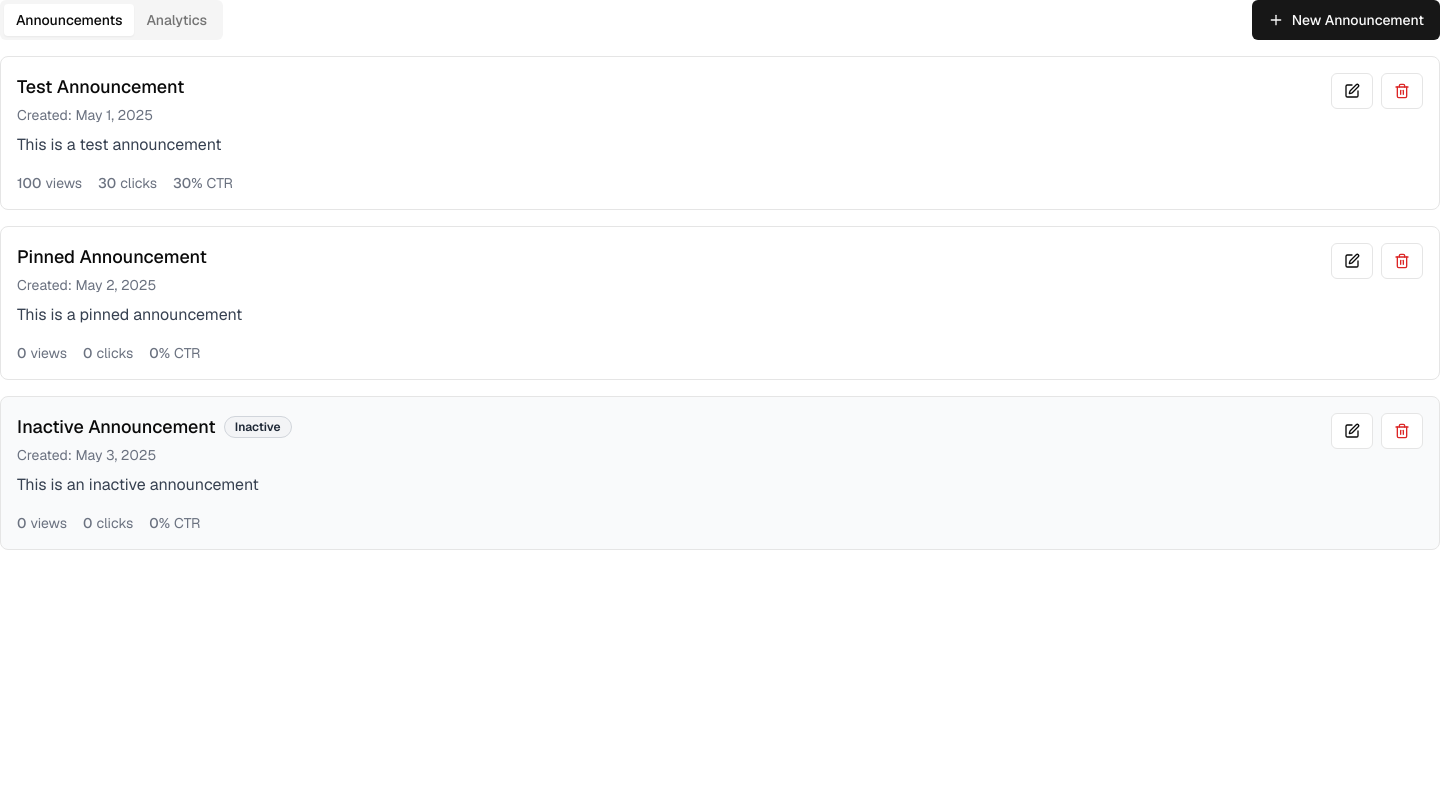
AnnouncementManagement › allows editing an existing announcement
Click the 2nd button.
click(1352, 91)  # box [1331, 73, 1373, 109]
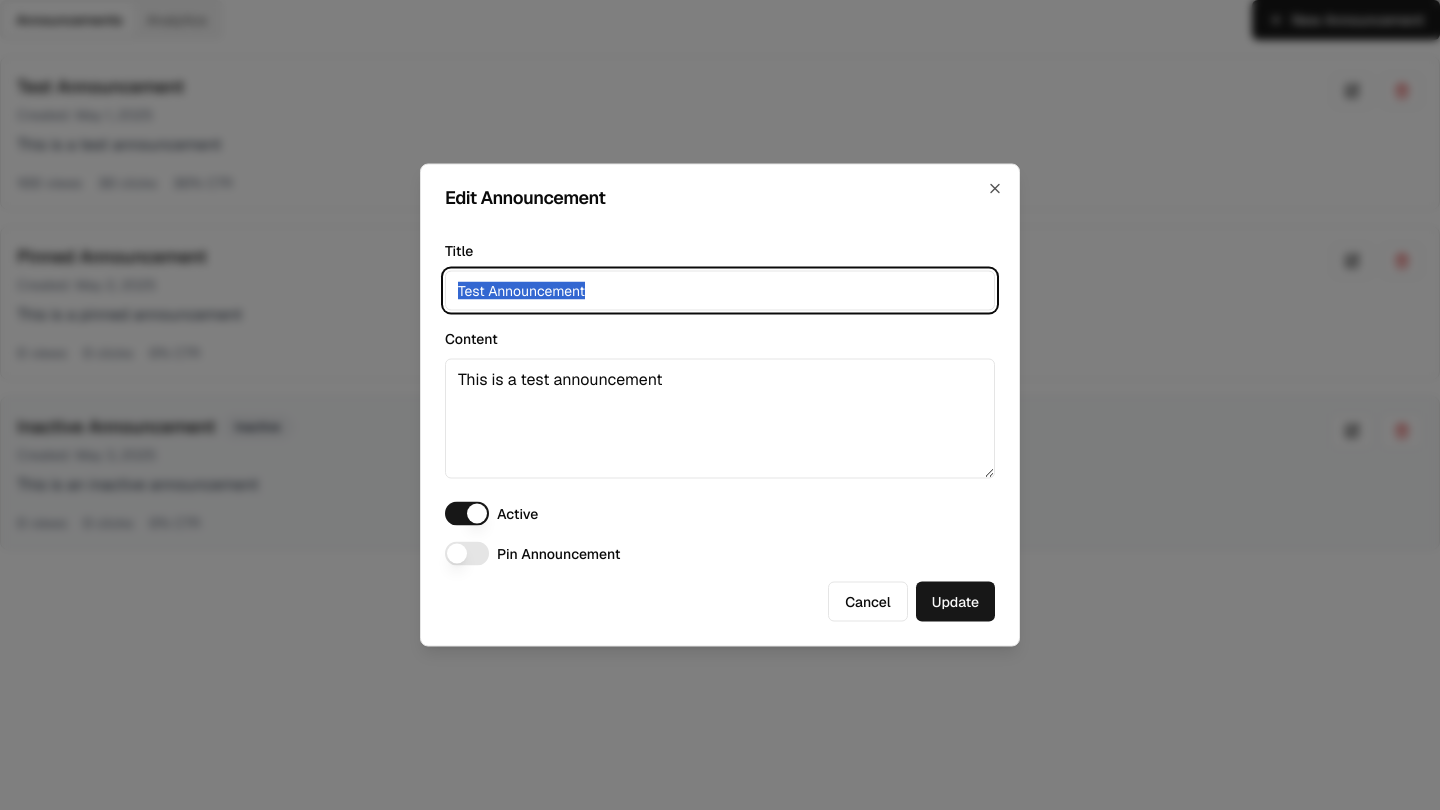
Expected: the heading "Edit Announcement" is shown, [445, 186, 606, 208]
Expected: the field labelled "Title" holds "Test Announcement"
Expected: the text box labelled "Content" holds "This is a test announcement", [445, 358, 995, 478]
Note: Update the form
Replace the text in the field labelled "Title" with "Updated Announcement" at point(720, 290), box [445, 270, 995, 310]
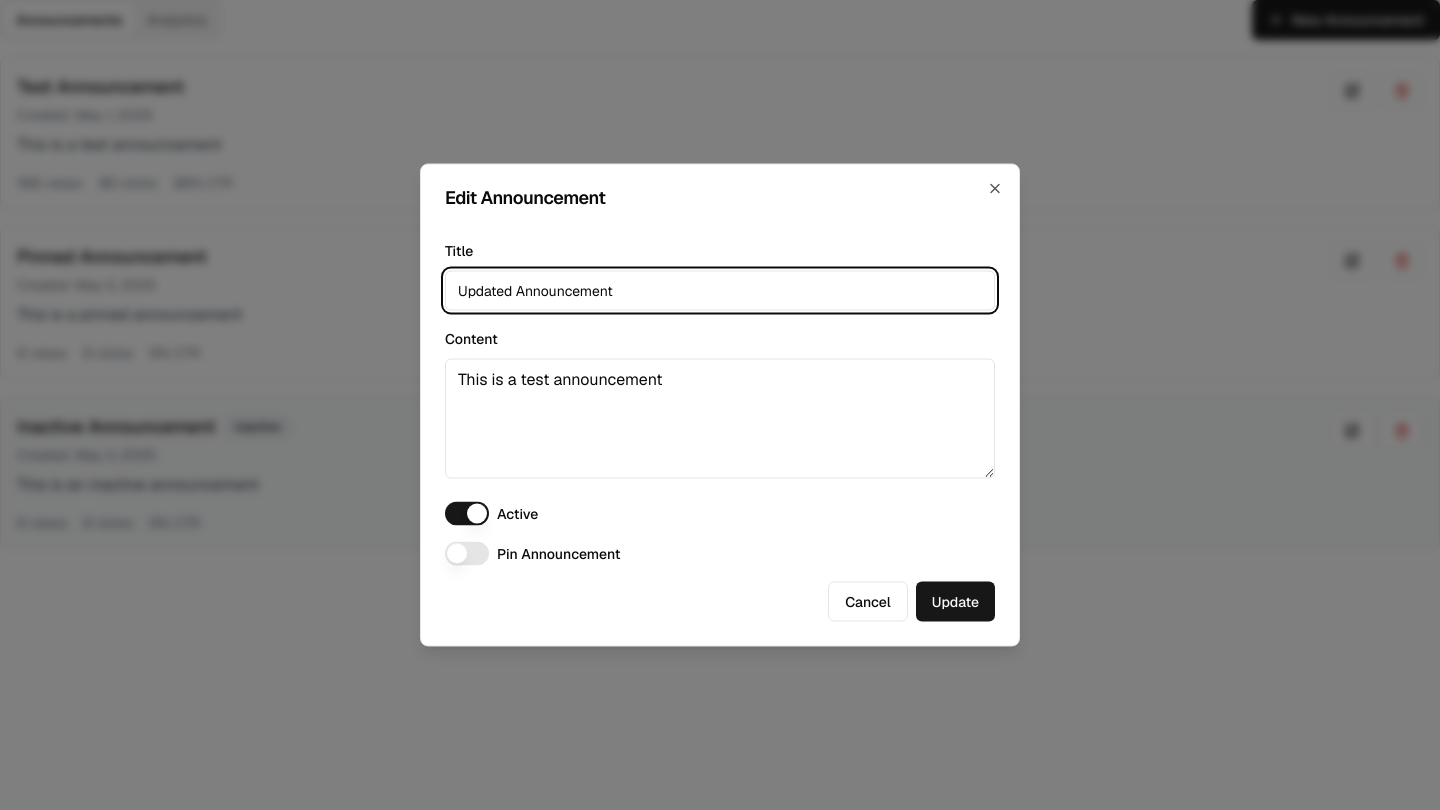
Replace the text in the text box labelled "Content" with "This announcement has been updated" at point(720, 418), box [445, 358, 995, 478]
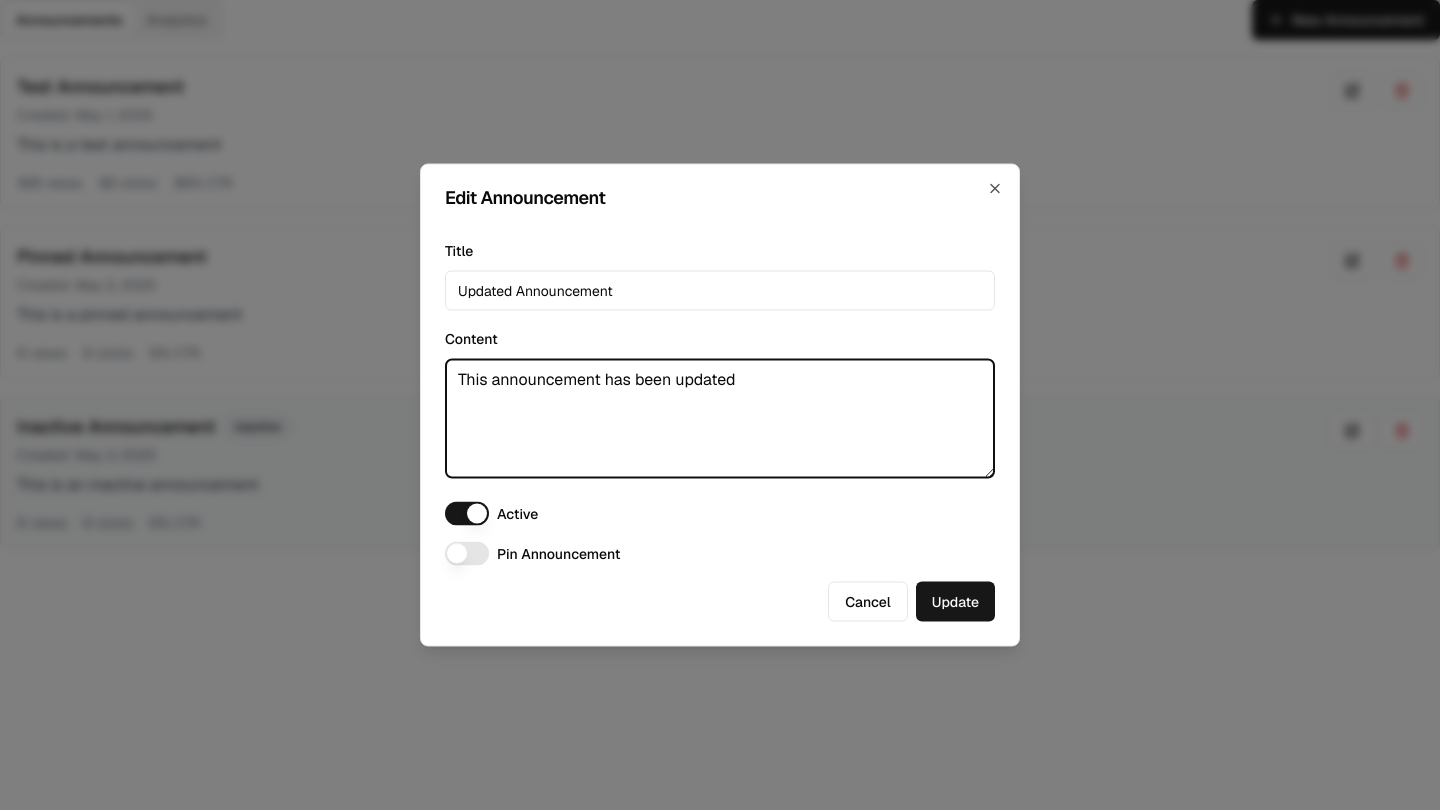
Note: Toggle active status
Click the 1st switch named "Active".
click(467, 514)  # box [445, 502, 489, 526]
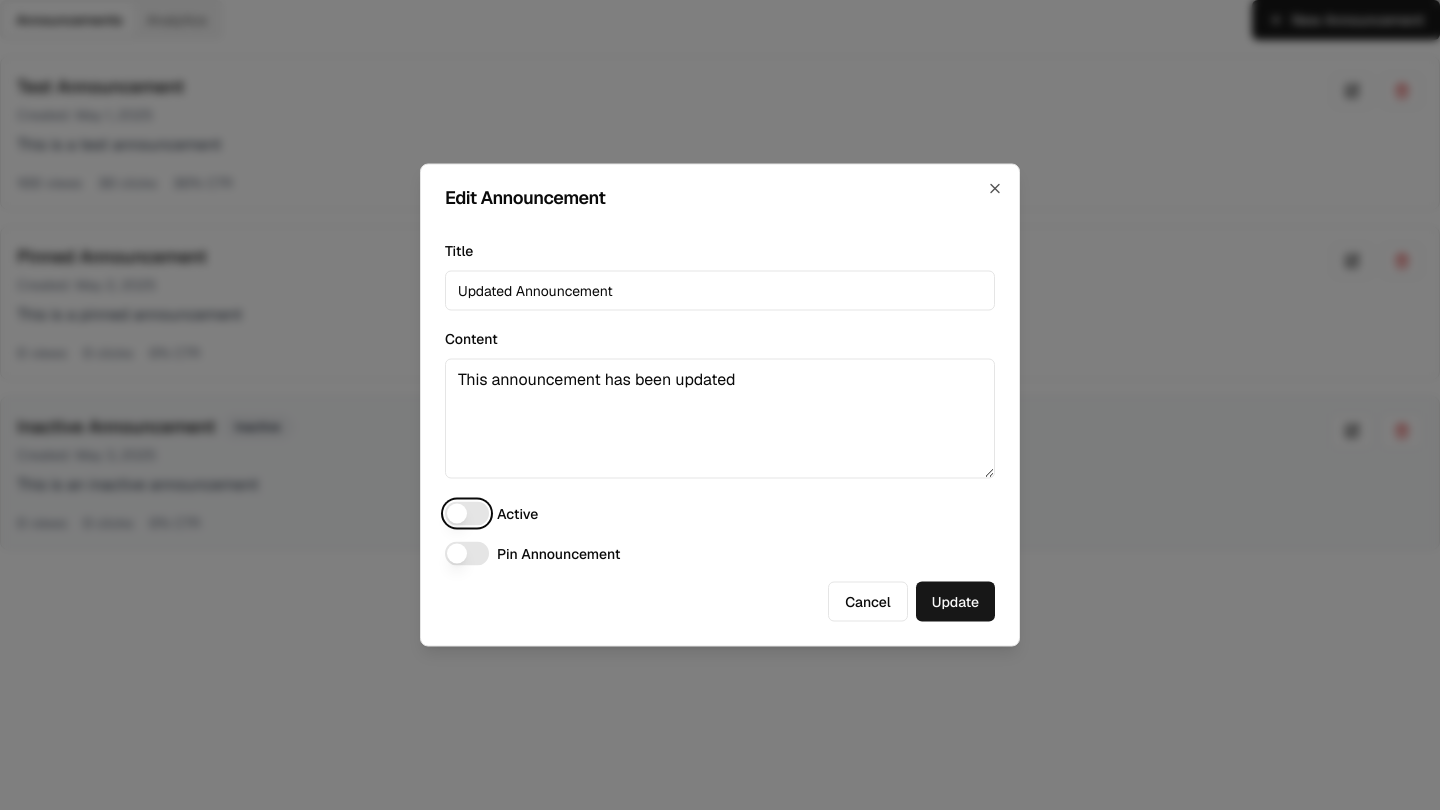
Note: Submit the form
Click the button "Update".
click(955, 602)  # box [916, 582, 995, 622]
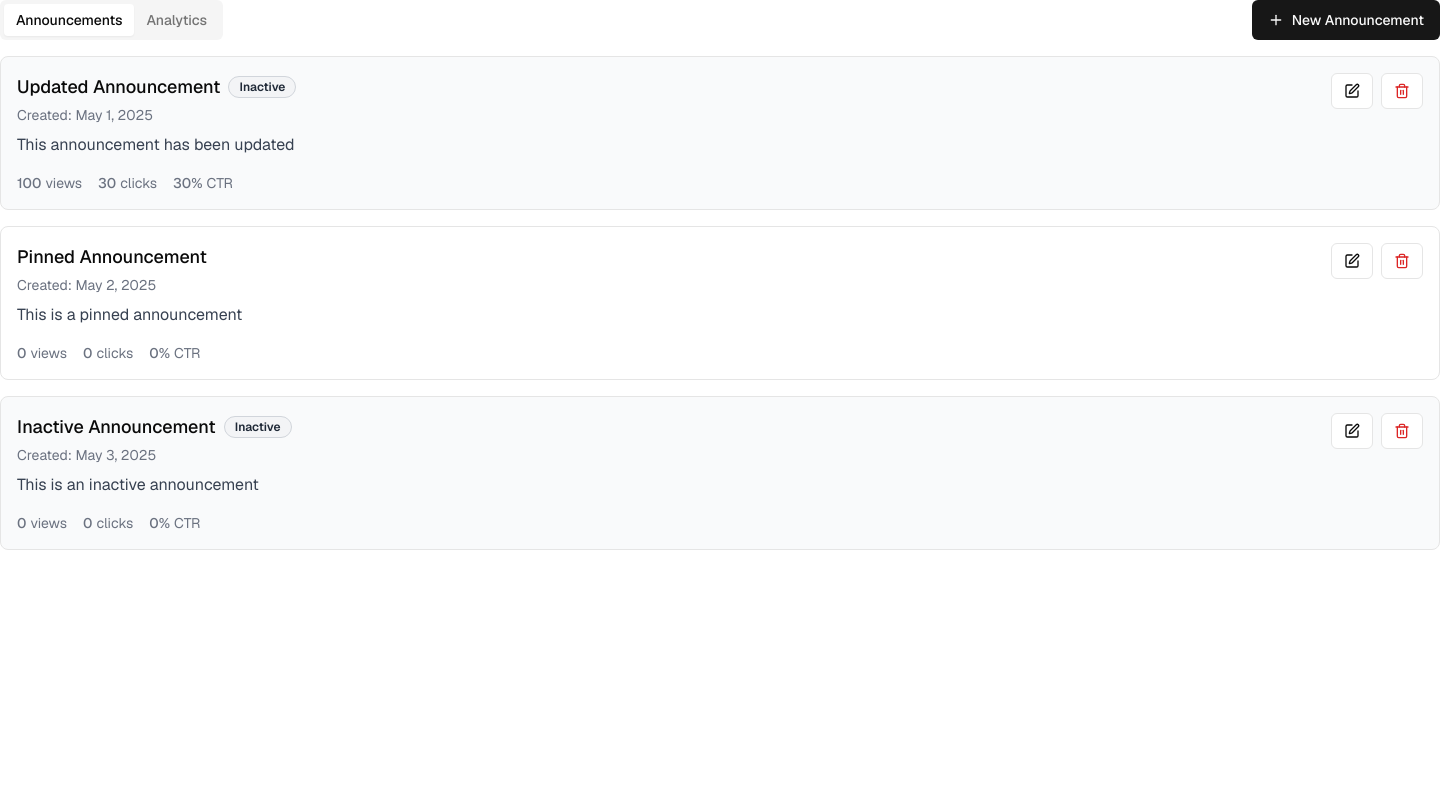
Expected: the heading "Updated Announcement Inactive" is shown, [17, 73, 296, 101]
Expected: the text "This announcement has been updated" is shown, [17, 134, 294, 155]
